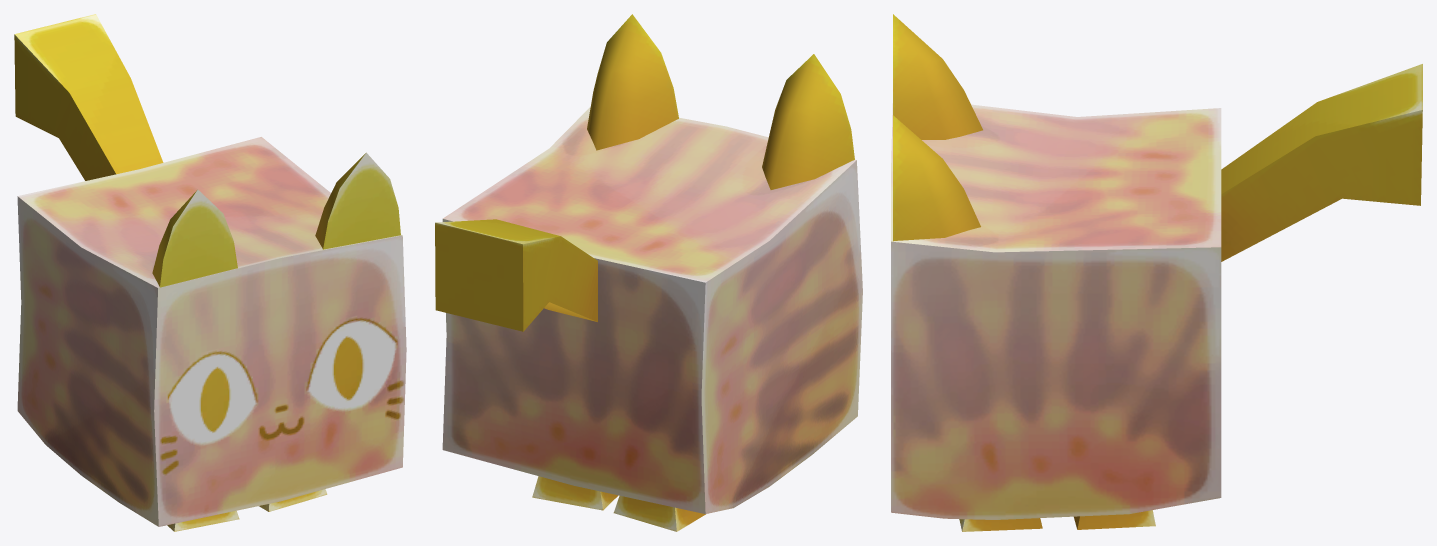
File: pets_58.fbx
3 views of the same model, side by side, from view 1: azimuth 30°, elevation 25°; view 2: azimuth 150°, elevation 25°; view 3: azimuth 270°, elevation 25° (orthographic). The views are drawn at different scales.
Parts seen in each view (by area): view 1: Pet.056; view 2: Pet.056; view 3: Pet.056.
Boxes of the visible parts, bbox=[...] form: Pet.056: bbox=[14, 14, 406, 531]; Pet.056: bbox=[435, 14, 862, 531]; Pet.056: bbox=[891, 14, 1422, 531].
Bounding box in the file's own units: 0.3954 × 0.6174 × 0.5474.
